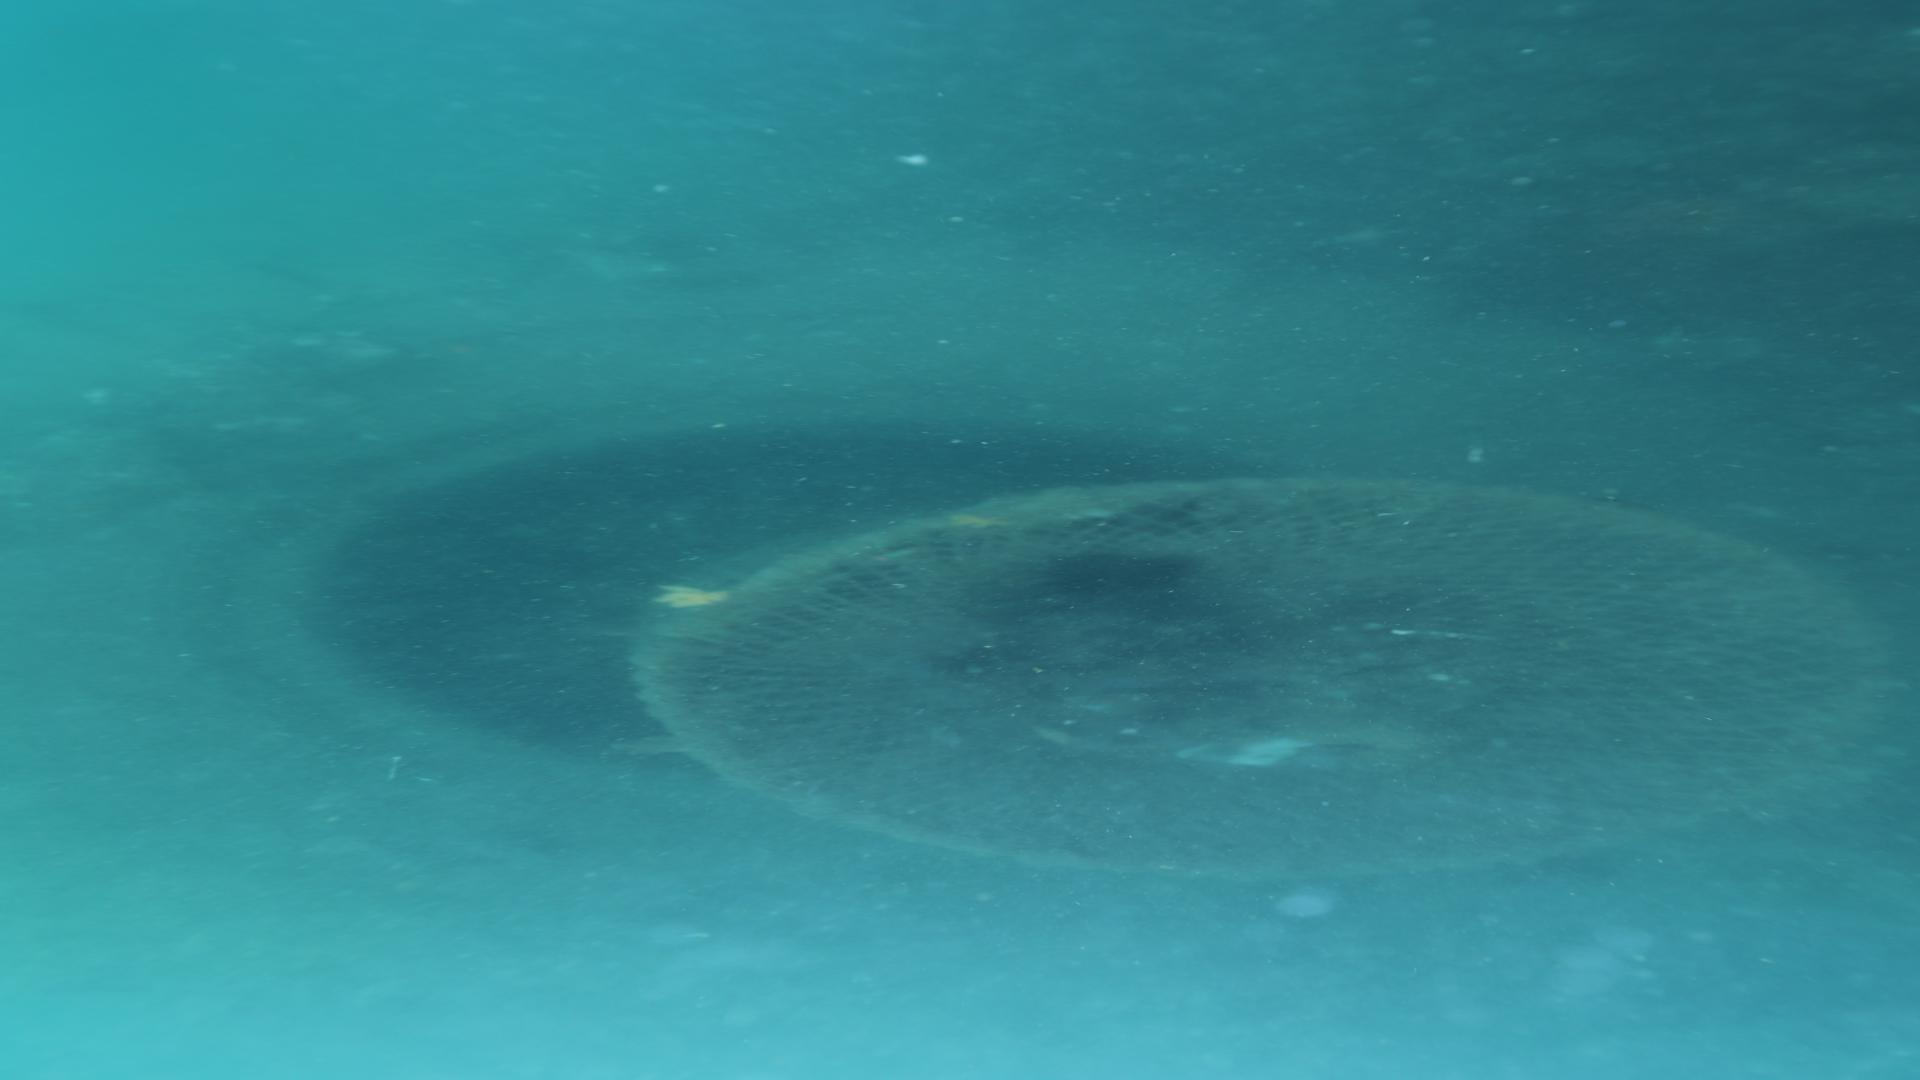circular fish trap: (628, 476, 1902, 887)
tire: (3, 233, 1920, 1080)
